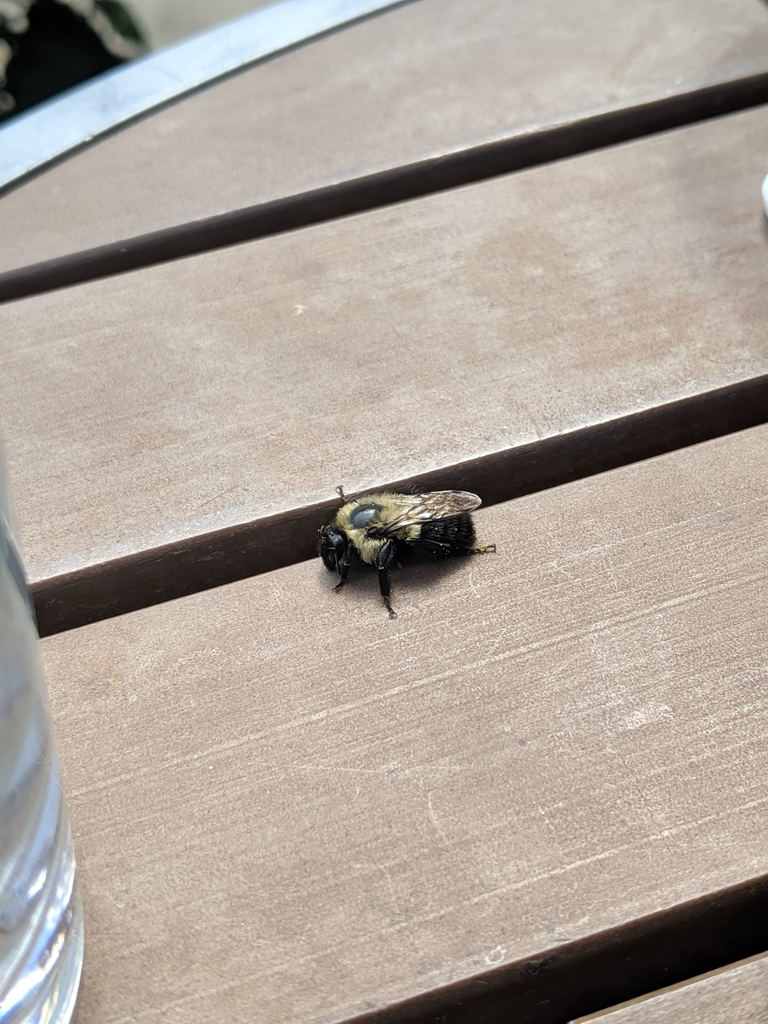bumblebee: (316, 485, 496, 623)
